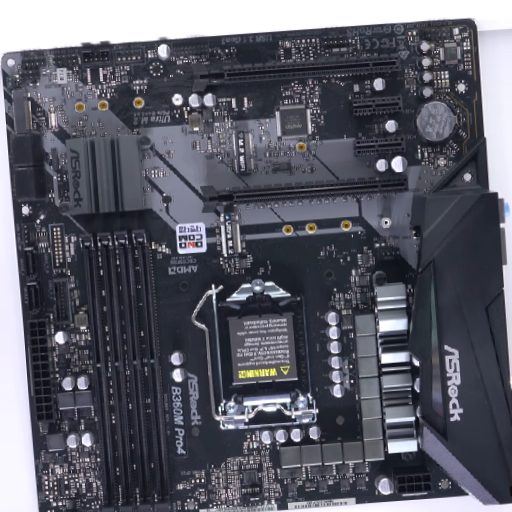CPU: (219, 277, 316, 431)
GPU: (201, 175, 408, 214), (192, 55, 402, 92)
MOTHERBOARD: (1, 20, 478, 509)
RAM: (80, 228, 173, 512)
SSD: (219, 214, 243, 254), (234, 131, 256, 173)
